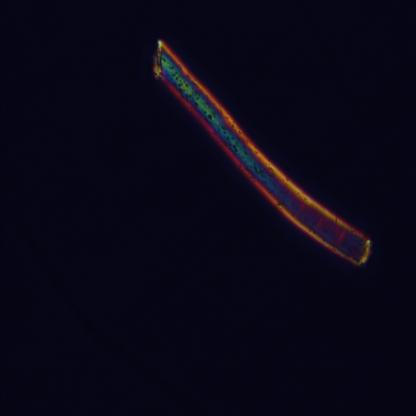Microfibre: (150, 37, 377, 266)
